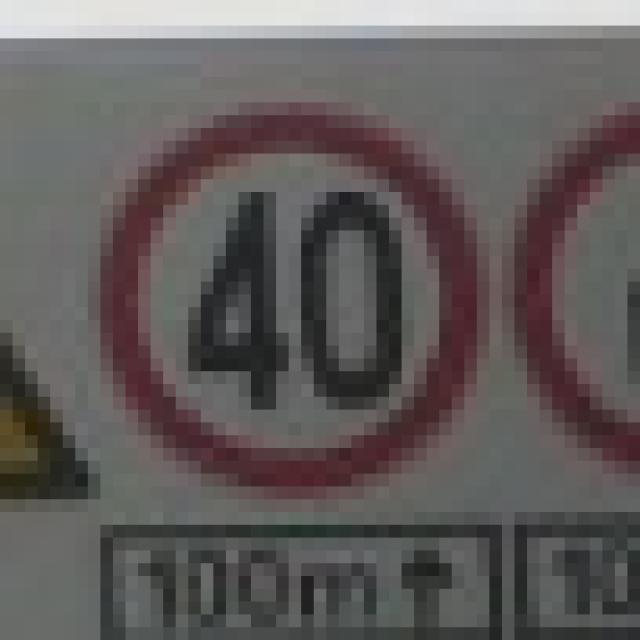Speed Limit -40-: (192, 192, 409, 421)
